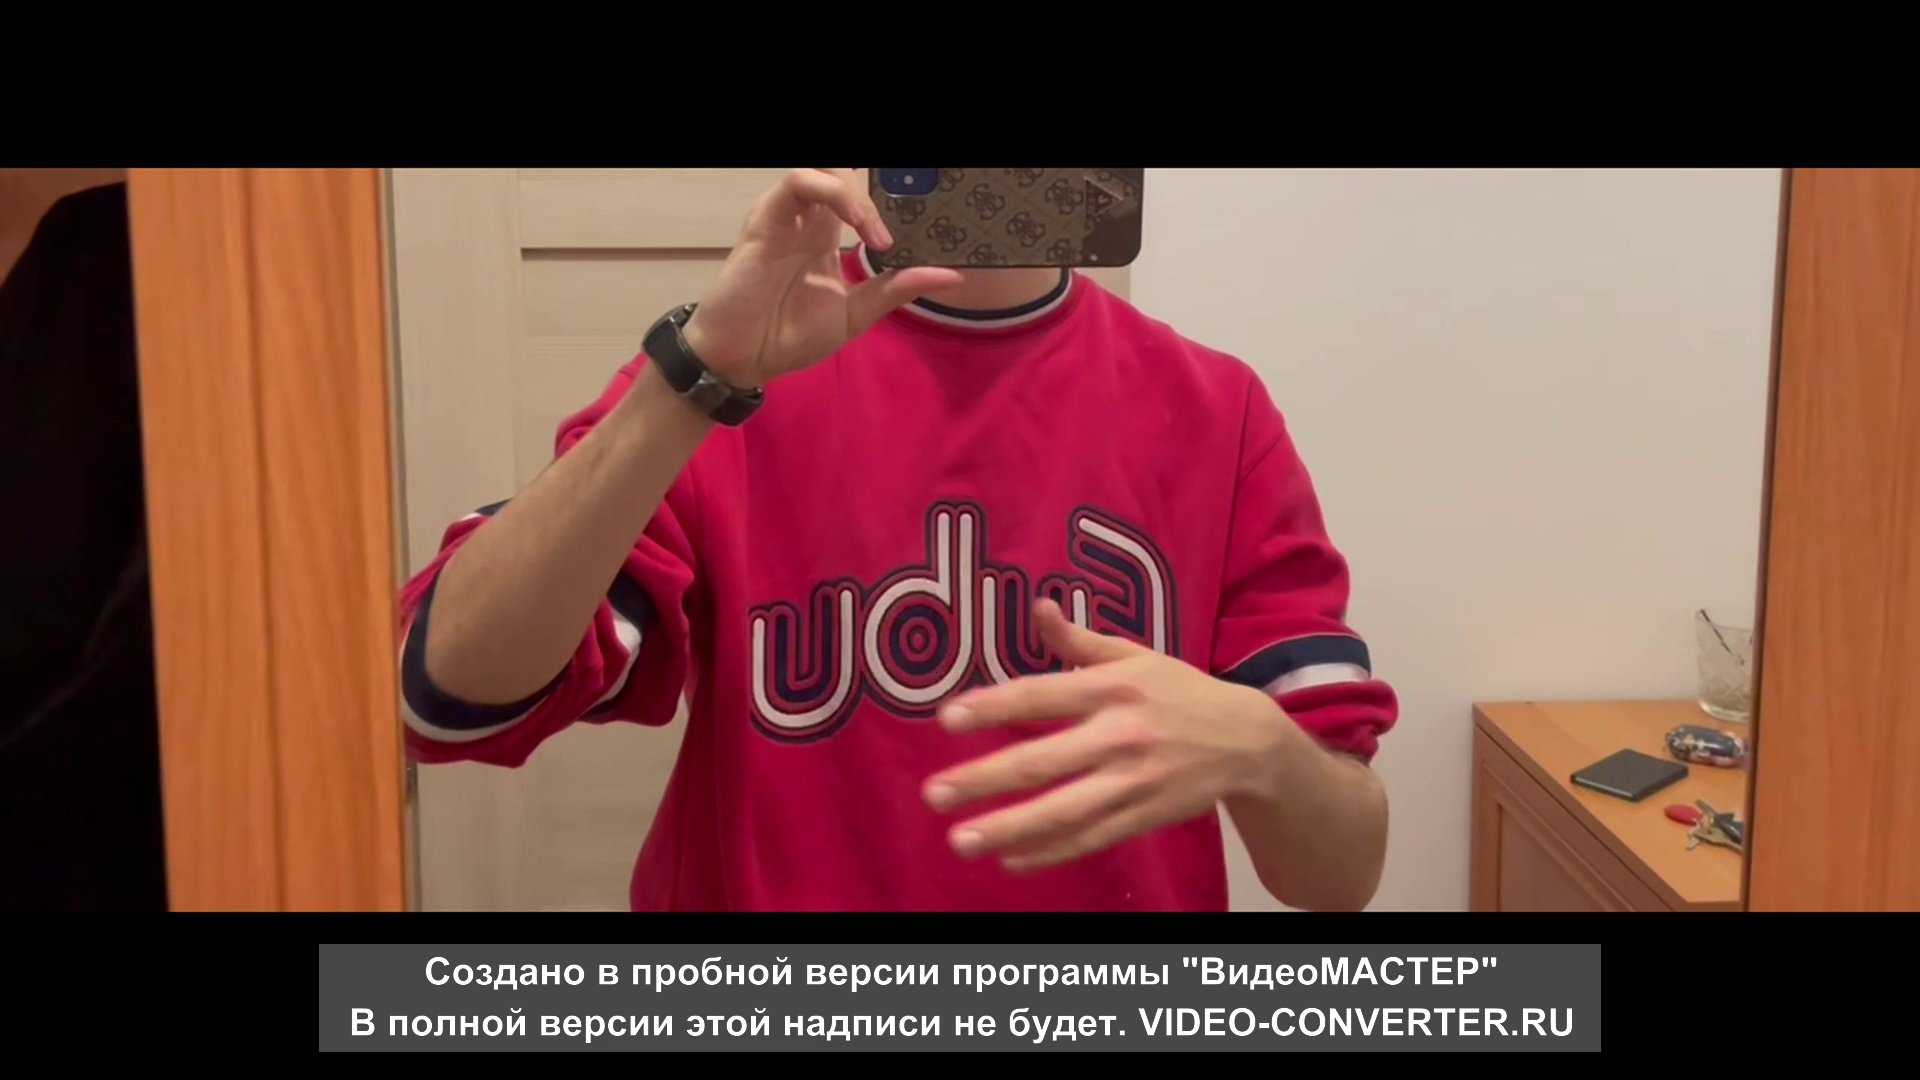Кисть: (919, 596, 1251, 870)
